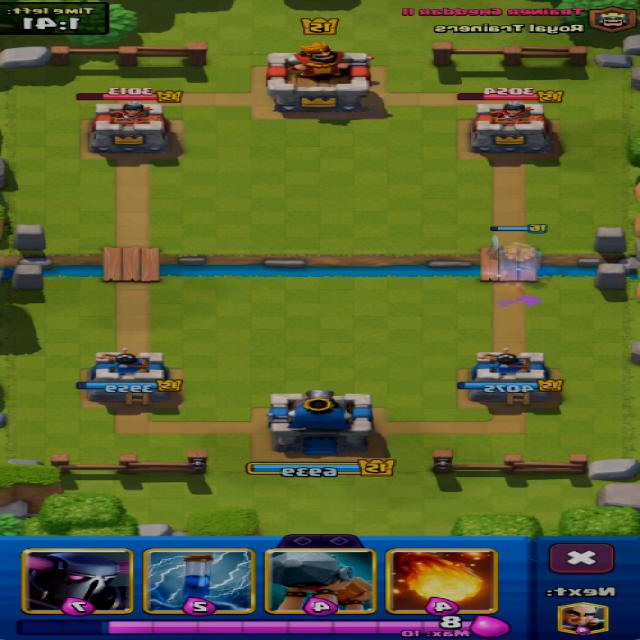Enemy-KingTower: (268, 42, 370, 114)
Enemy-PrincessTower: (471, 102, 552, 154), (91, 101, 170, 154)
